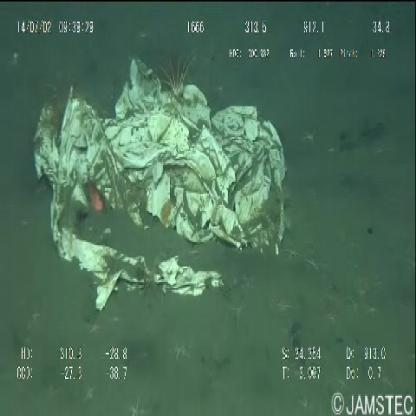Rác: (26, 44, 296, 328)
